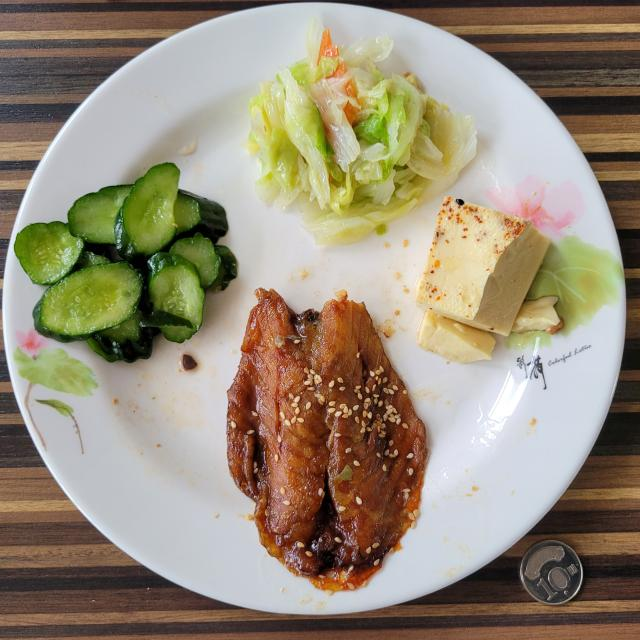Kabayaki sea bream fillet: (226, 290, 428, 590)
cabbage: (249, 16, 476, 244)
coin: (520, 540, 584, 605)
cucumber: (14, 162, 238, 362)
